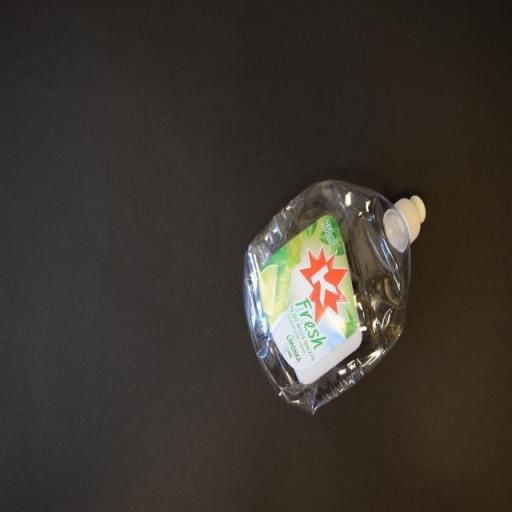plastic: (242, 183, 428, 420)
